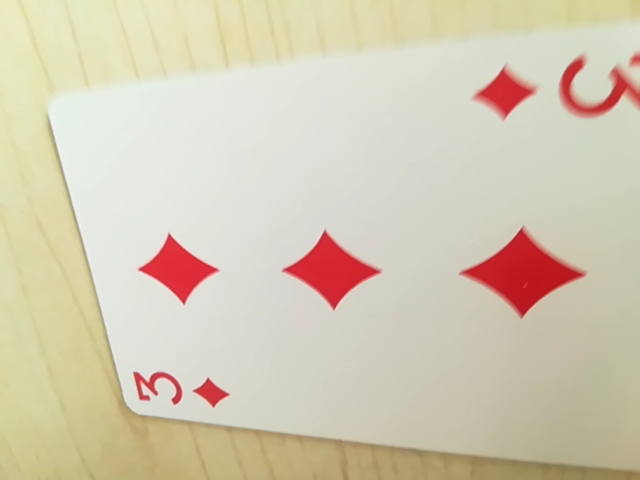fk 3: (471, 36, 640, 132), (126, 363, 233, 416)
